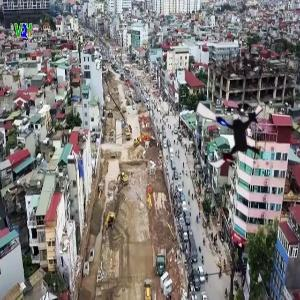drone: (188, 88, 275, 175)
